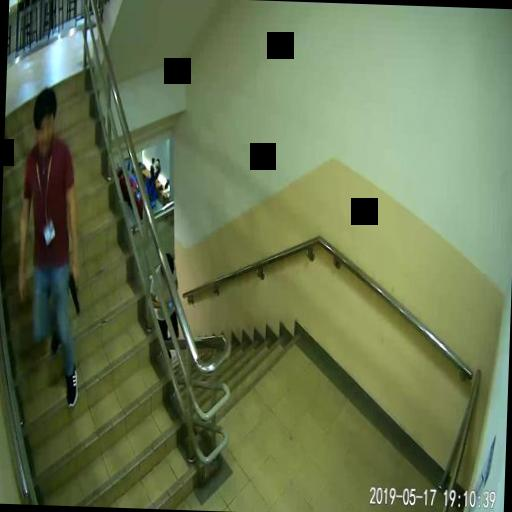Handgun: (66, 266, 80, 312)
